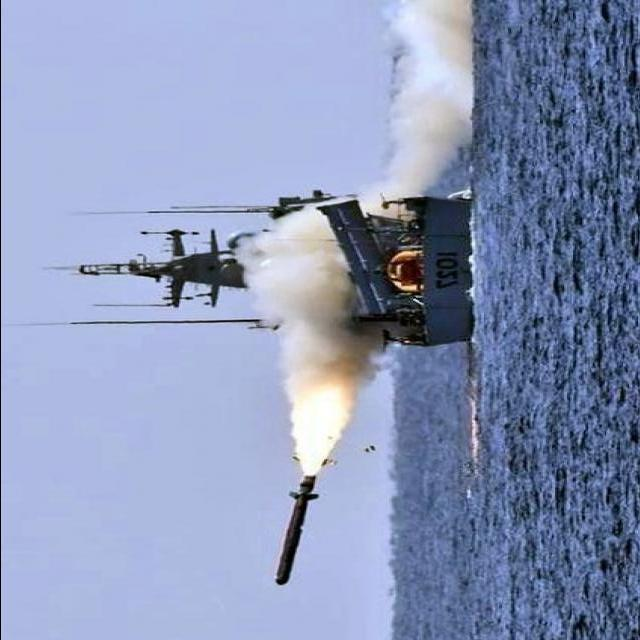Missile: (262, 468, 325, 590)
